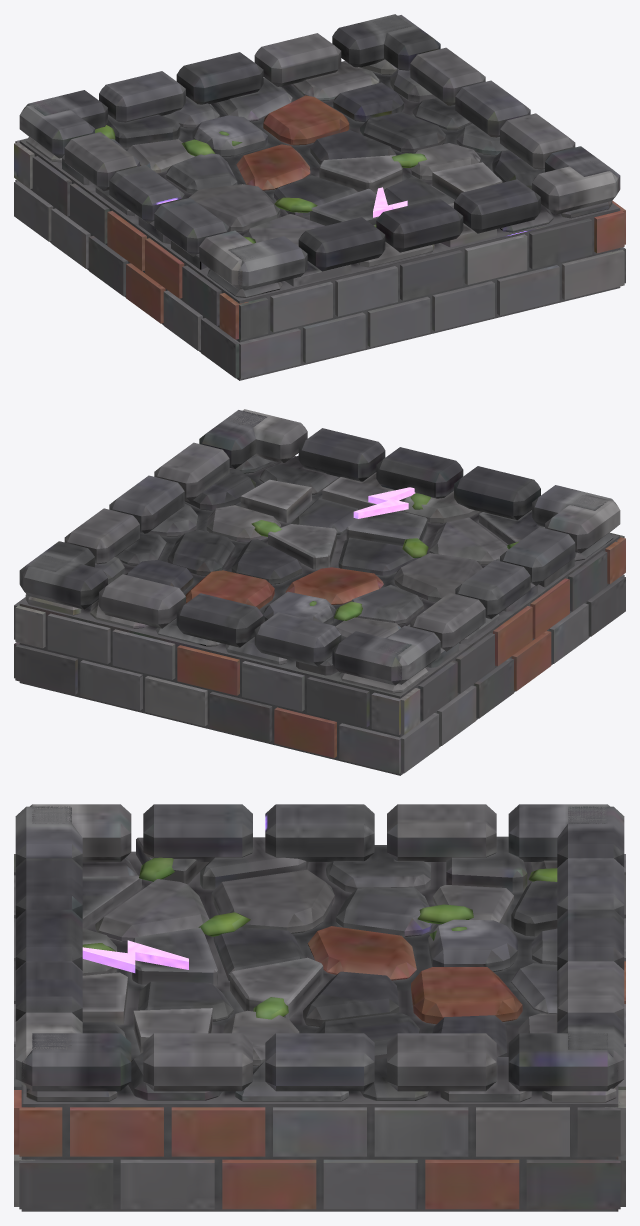
The model's file is plate_2_perun.glb.
3 renders of one model, top to bottom at view 1: azimuth 30°, elevation 25°; view 2: azimuth 150°, elevation 25°; view 3: azimuth 270°, elevation 25°, orthographic. The views are drawn at different scales.
Parts seen in each view (by area): view 1: plate_2_perun; view 2: plate_2_perun; view 3: plate_2_perun.
Boxes of the visible parts, x1,y1,x2,y2 form: plate_2_perun: (14, 14, 625, 380); plate_2_perun: (14, 409, 625, 775); plate_2_perun: (14, 804, 625, 1211).
Bounding box in the file's own units: 2.01 × 0.57 × 2.01.
1 material, 1 textured.
